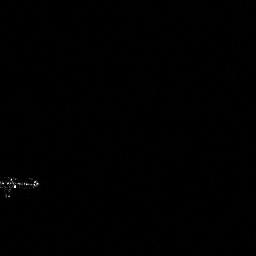ship: (1, 172, 40, 199)
